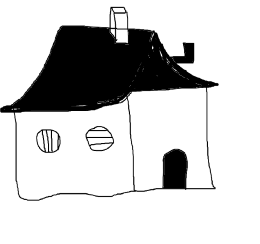chimney: (103, 5, 136, 49), (168, 27, 202, 66)
closed_window: (76, 123, 121, 156), (31, 124, 66, 155)
door: (161, 143, 193, 194)
shaded_roof: (0, 21, 231, 116)
wall: (124, 83, 227, 197)
